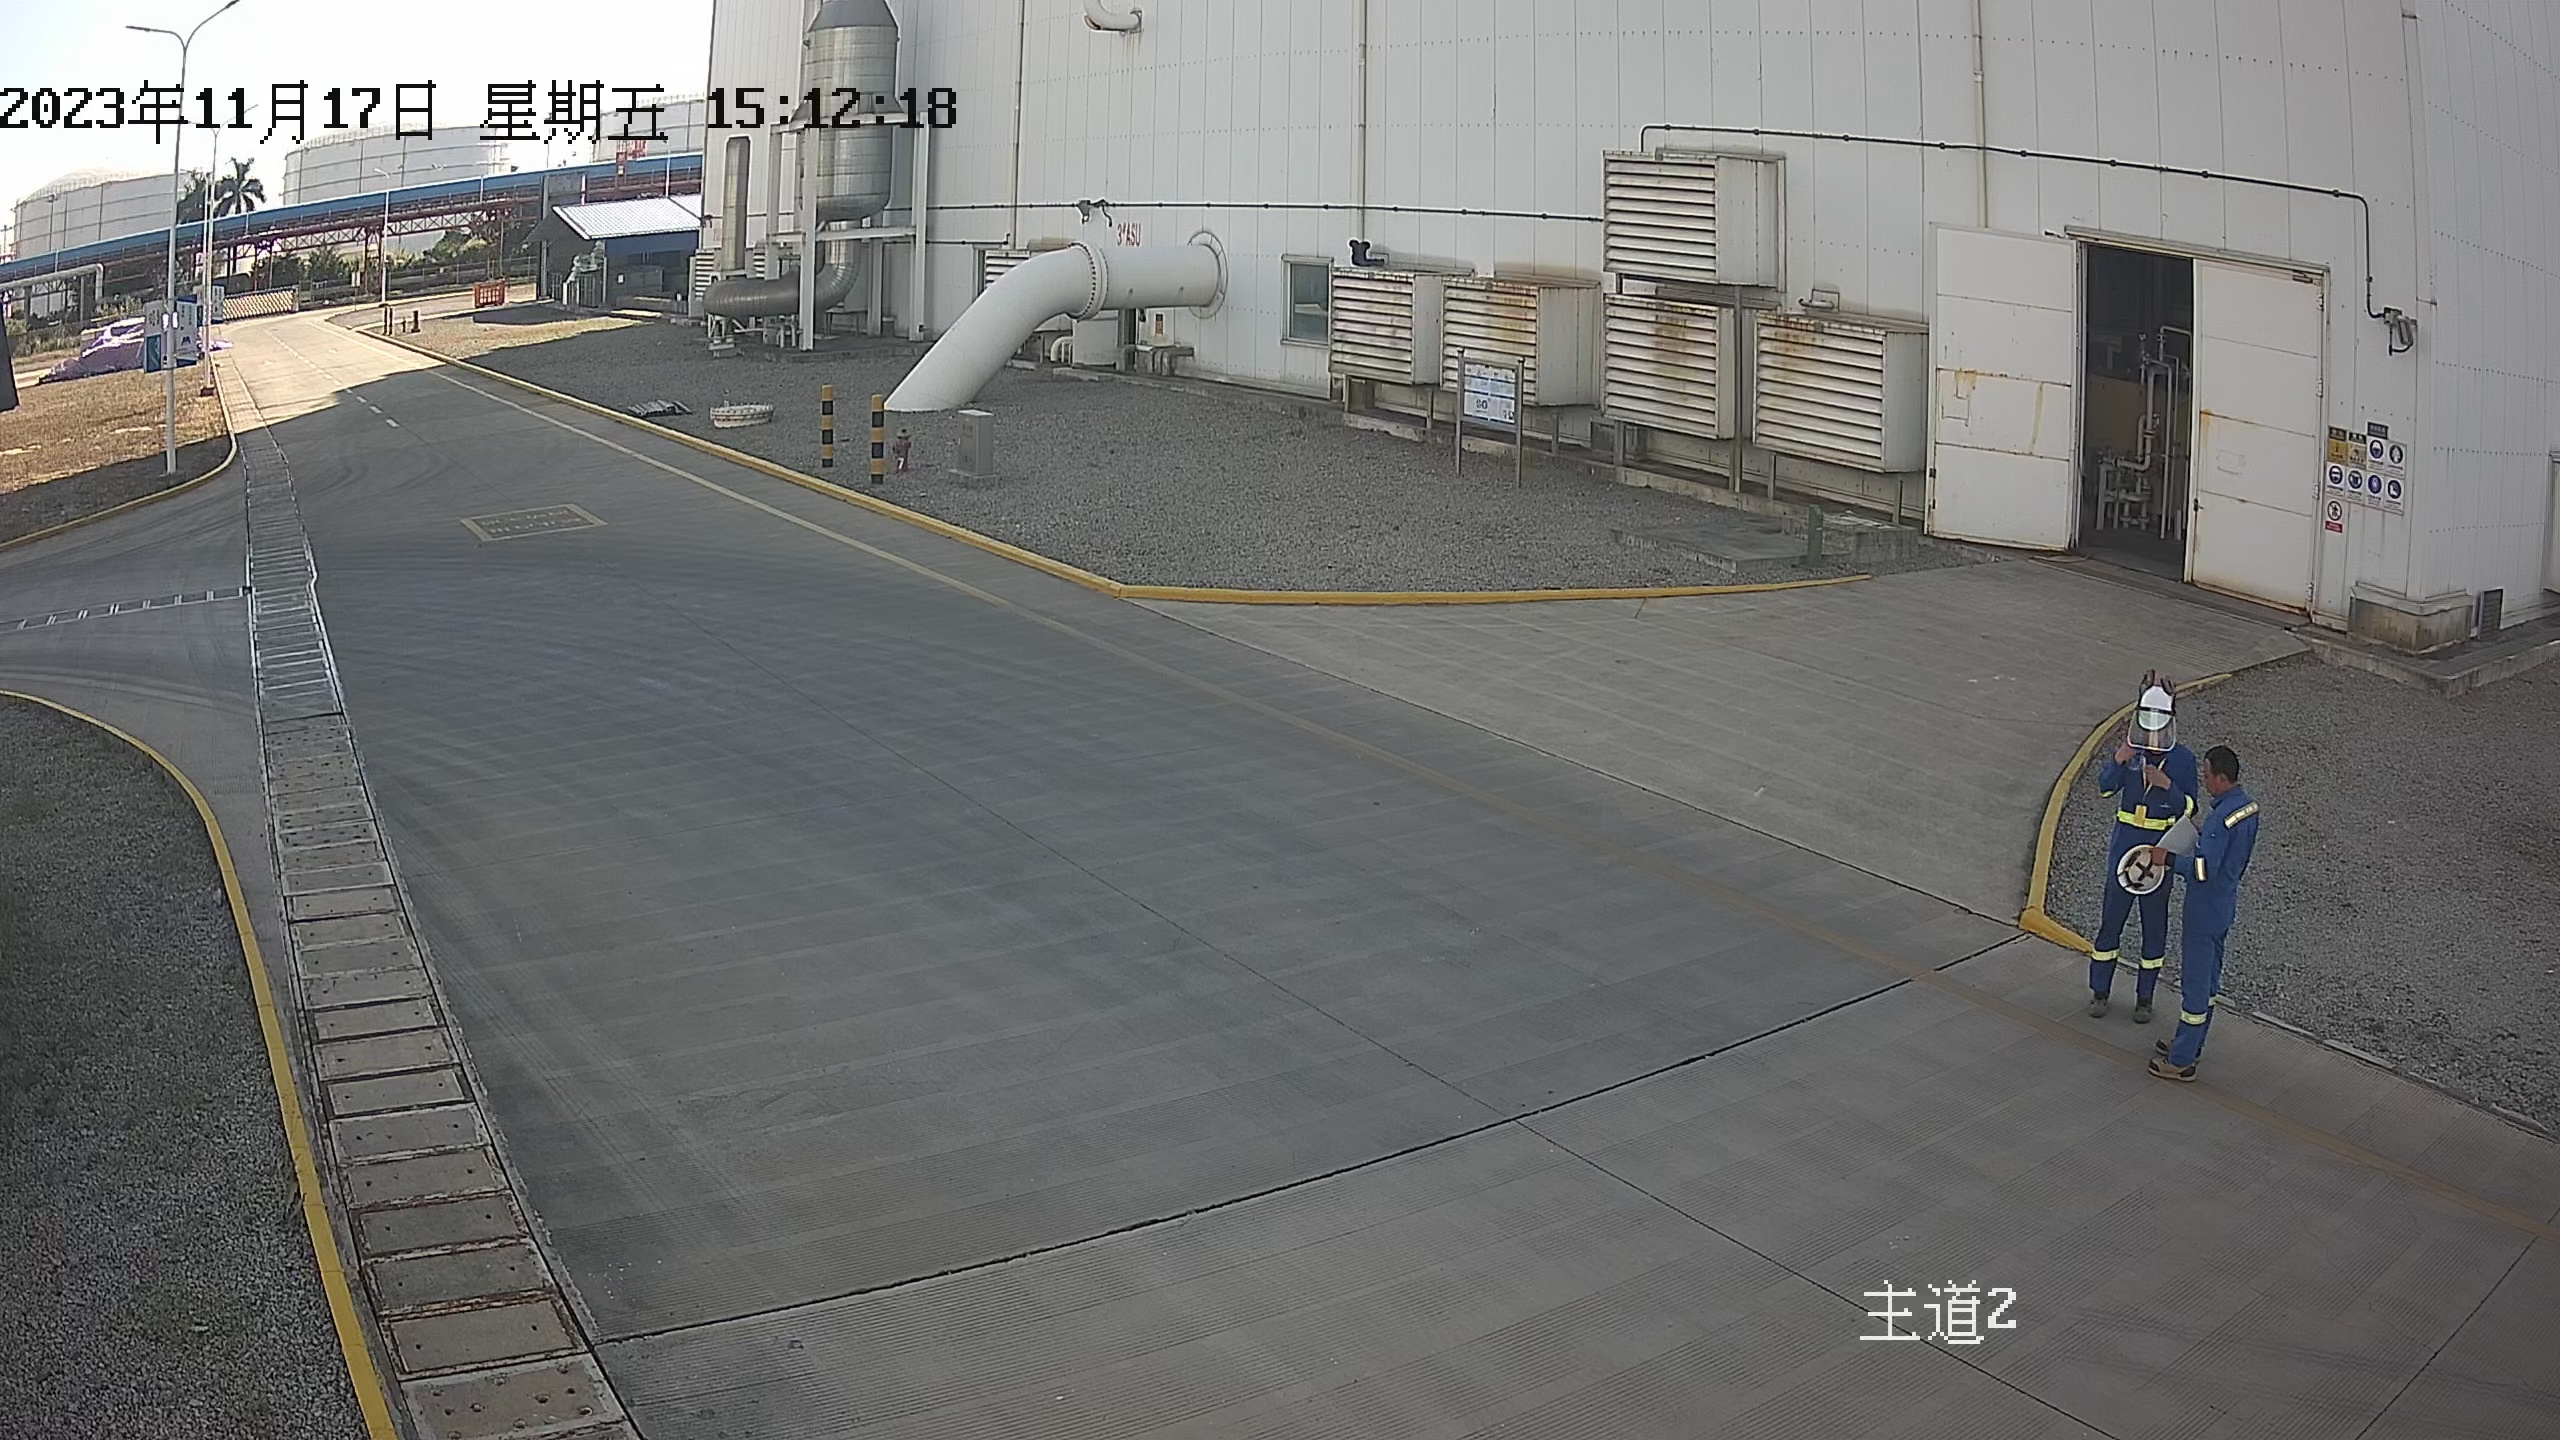Head_with_Helmet: (2106, 662, 2202, 761)
Head_without_covering: (2190, 737, 2256, 802)
Uniform: (2137, 790, 2293, 1078), (2065, 723, 2182, 1026)
